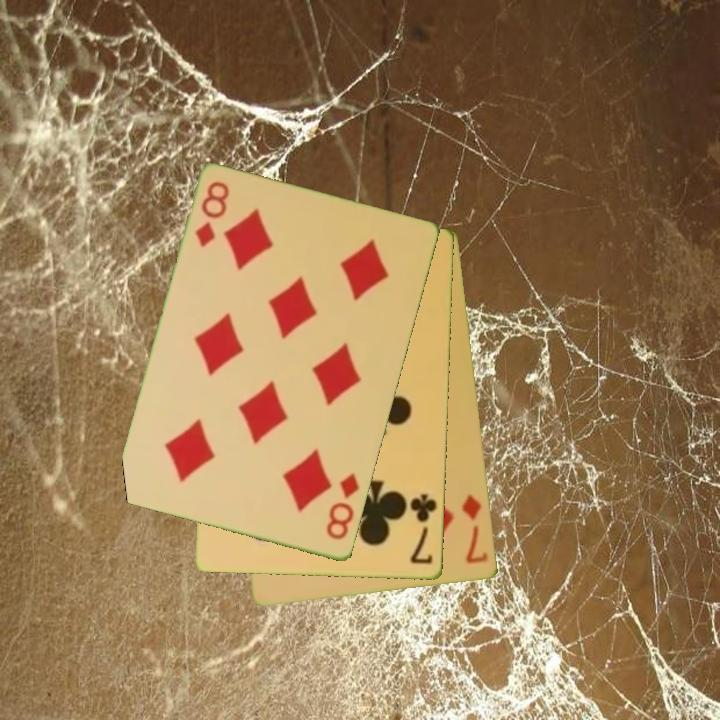7c: (406, 490, 440, 567)
7d: (458, 491, 491, 567)
8d: (192, 178, 233, 251), (323, 470, 363, 544)
